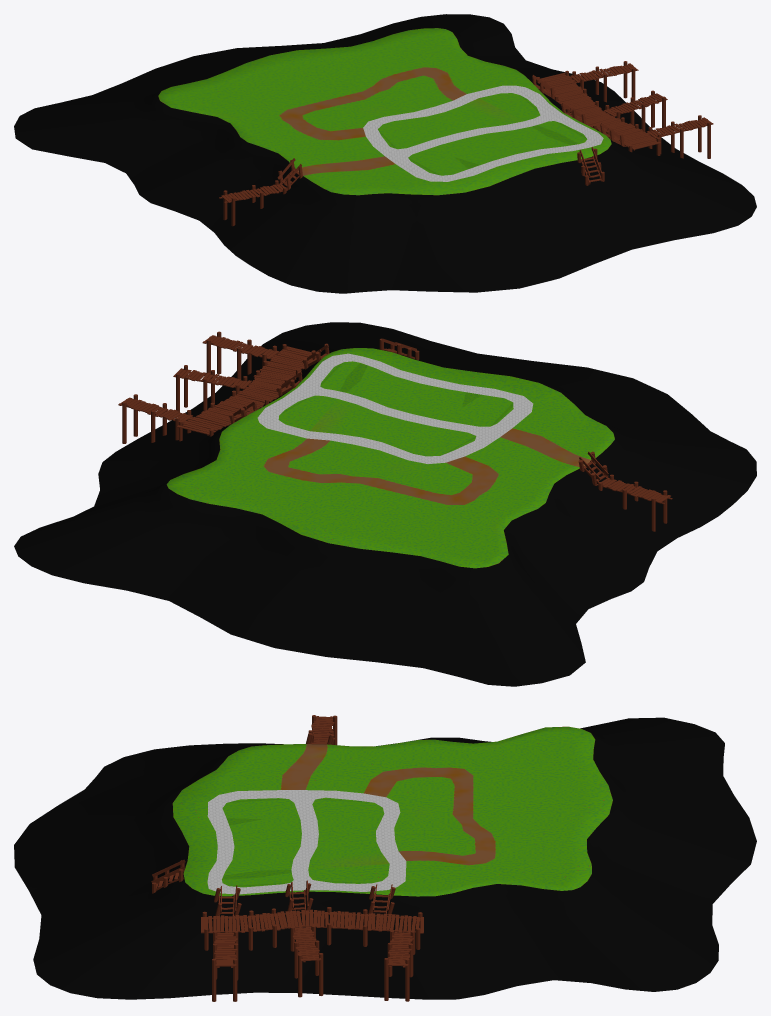
The model's file is ilha1-1.fbx.
3 renders of one model, top to bottom at view 1: azimuth 30°, elevation 25°; view 2: azimuth 150°, elevation 25°; view 3: azimuth 270°, elevation 25°, orthographic. The views are drawn at different scales.
Parts seen in each view (by area): view 1: Cube, Cube.022, Cube.023, Cube.015; view 2: Cube, Cube.022, Cube.023; view 3: Cube, Cube.022, Cube.023, Cube.015.
Boxes of the visible parts, x1,y1,x2,y2 form: Cube: [14, 14, 756, 293]; Cube.022: [536, 61, 713, 158]; Cube.023: [219, 180, 287, 226]; Cube.015: [577, 147, 604, 185]; Cube: [14, 322, 756, 686]; Cube.022: [118, 331, 320, 443]; Cube.023: [597, 474, 672, 531]; Cube: [14, 717, 756, 999]; Cube.022: [201, 907, 423, 1001]; Cube.023: [308, 715, 337, 745]; Cube.015: [151, 859, 185, 893].
Bounding box in the file's own units: 268 × 27.15 × 293.
